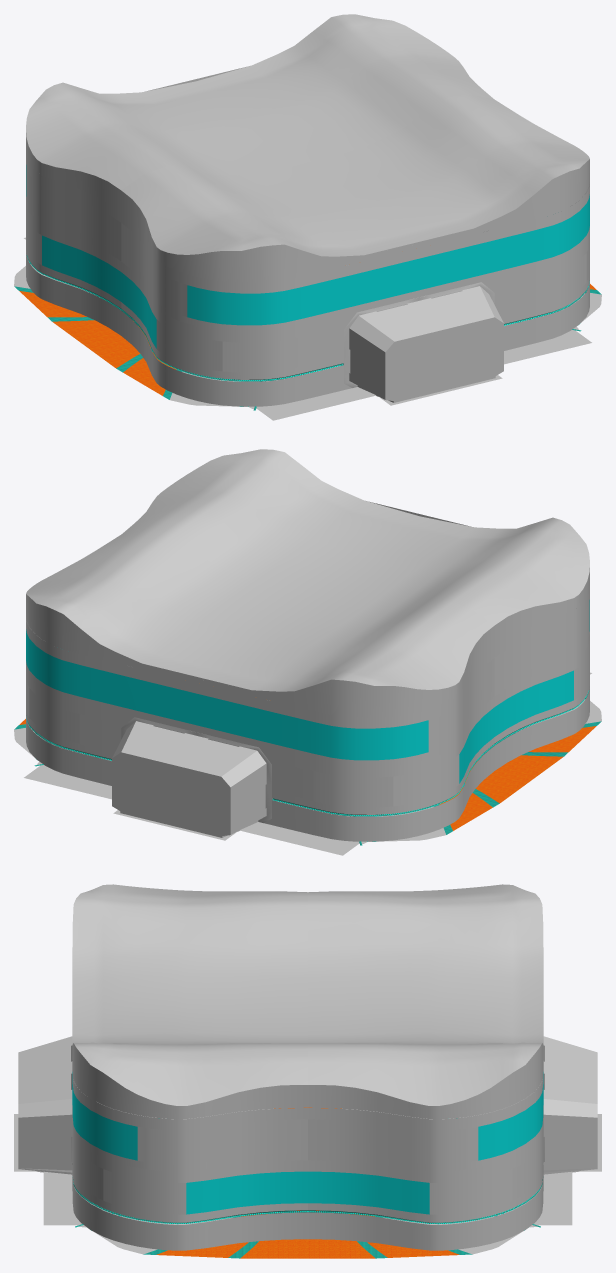
The model's file is Arena_Sci_fi.fbx.
The picture shows the model from 3 angles, top to bottom: view 1: azimuth 30°, elevation 25°; view 2: azimuth 150°, elevation 25°; view 3: azimuth 270°, elevation 25°; orthographic projection. The views are drawn at different scales.
Parts seen in each view (by area): view 1: Top, Walls_and_Doors, Grids_Doors, Floor; view 2: Top, Walls_and_Doors, Grids_Doors, Floor; view 3: Top, Walls_and_Doors, Grids_Doors, Floor.
Part boxes in pixels (x1,y1,x2,y2): Top: (26,14,589,256); Walls_and_Doors: (26,66,589,406); Grids_Doors: (349,286,503,402); Floor: (14,237,601,420); Top: (26,449,589,691); Walls_and_Doors: (26,501,589,841); Grids_Doors: (112,721,266,837); Floor: (14,672,601,855); Top: (72,884,543,1105); Walls_and_Doors: (71,1043,544,1250); Grids_Doors: (18,1036,597,1174); Floor: (14,1099,601,1258).
Size of the model in its own units: 29548 by 10162 by 31727.
